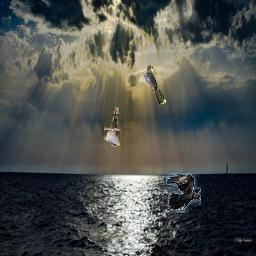Crow: (166, 173, 201, 213)
Cuckoo: (144, 65, 166, 105), (104, 107, 124, 147)
